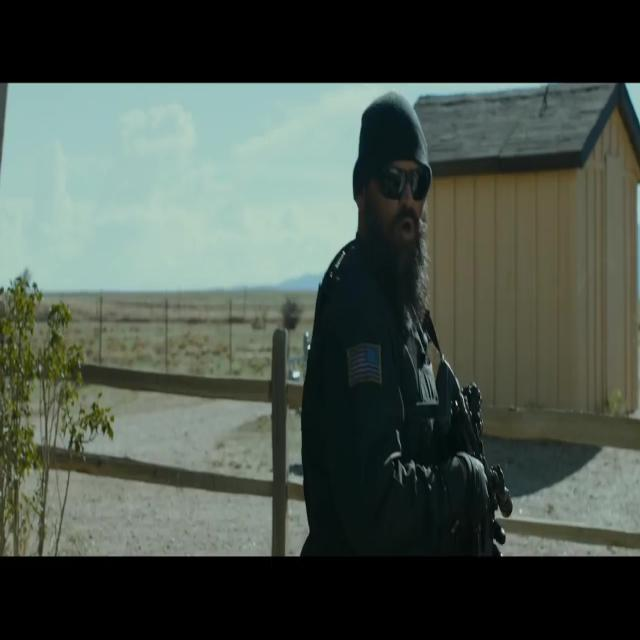Weapon: (406, 299, 555, 561)
